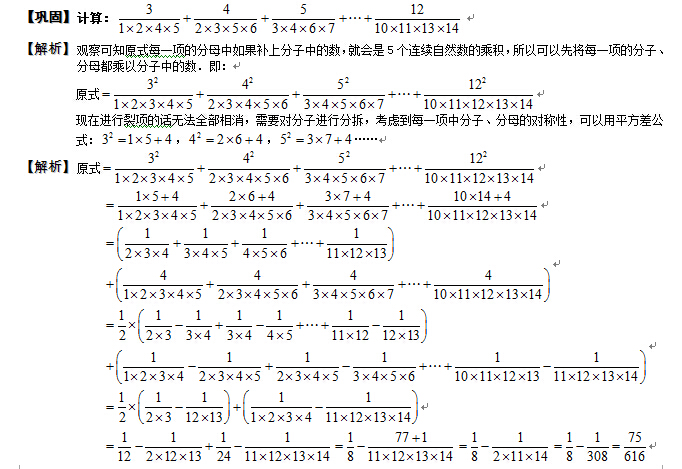division: (323, 402, 413, 412), (432, 283, 544, 291), (366, 443, 455, 453), (307, 282, 400, 291), (302, 91, 383, 101), (423, 166, 540, 172), (554, 363, 640, 371), (425, 202, 539, 208), (216, 283, 301, 291), (273, 363, 340, 373), (327, 239, 391, 249), (122, 283, 205, 290), (350, 364, 418, 372), (456, 365, 540, 371), (205, 93, 288, 99), (124, 241, 169, 252), (196, 364, 263, 371), (423, 93, 534, 97), (251, 405, 314, 412), (245, 445, 331, 450), (122, 365, 183, 371), (184, 241, 225, 248), (242, 242, 286, 248), (186, 322, 215, 331), (143, 404, 173, 412), (264, 323, 293, 331), (332, 323, 368, 329), (625, 443, 646, 451), (223, 324, 253, 329)
square: (342, 149, 354, 160), (480, 75, 493, 84), (152, 149, 162, 160), (285, 129, 294, 140), (246, 75, 254, 86), (480, 149, 490, 157), (152, 74, 159, 85), (343, 75, 352, 83), (193, 130, 201, 139), (247, 150, 257, 157), (108, 130, 115, 138)
